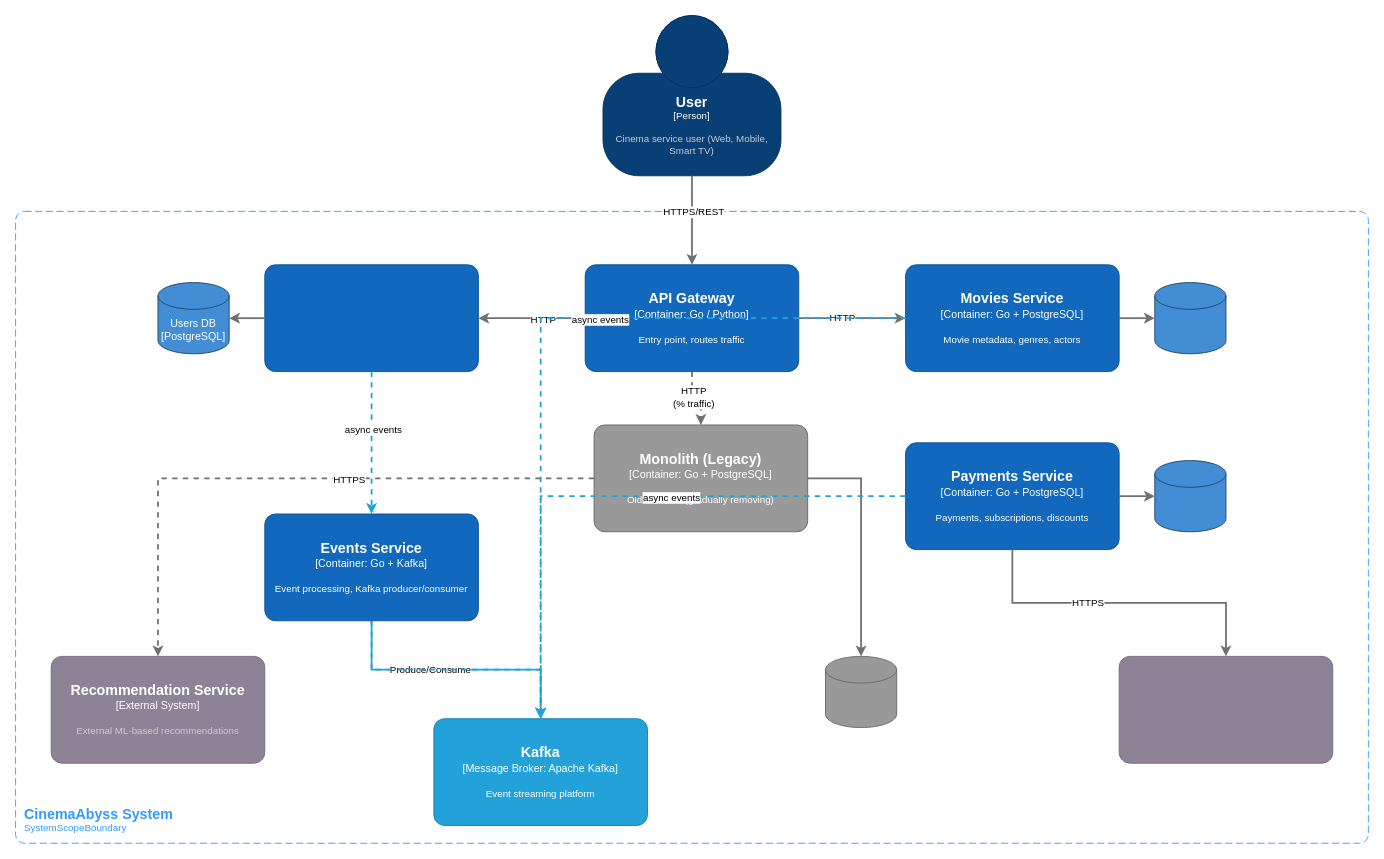
This 1384x859 diagram has some shape labels left out. The centre of each missing label's shape, as x and y in pixels:
Monolith DB [PostgreSQL]: the point at 861,691
Movies DB [PostgreSQL]: the point at 1190,318
Payment System [External System] External payment processing: the point at 1225,709
Payments DB [PostgreSQL]: the point at 1190,496
Users Service [Container: Go + PostgreSQL] User management, authentication: the point at 371,318
